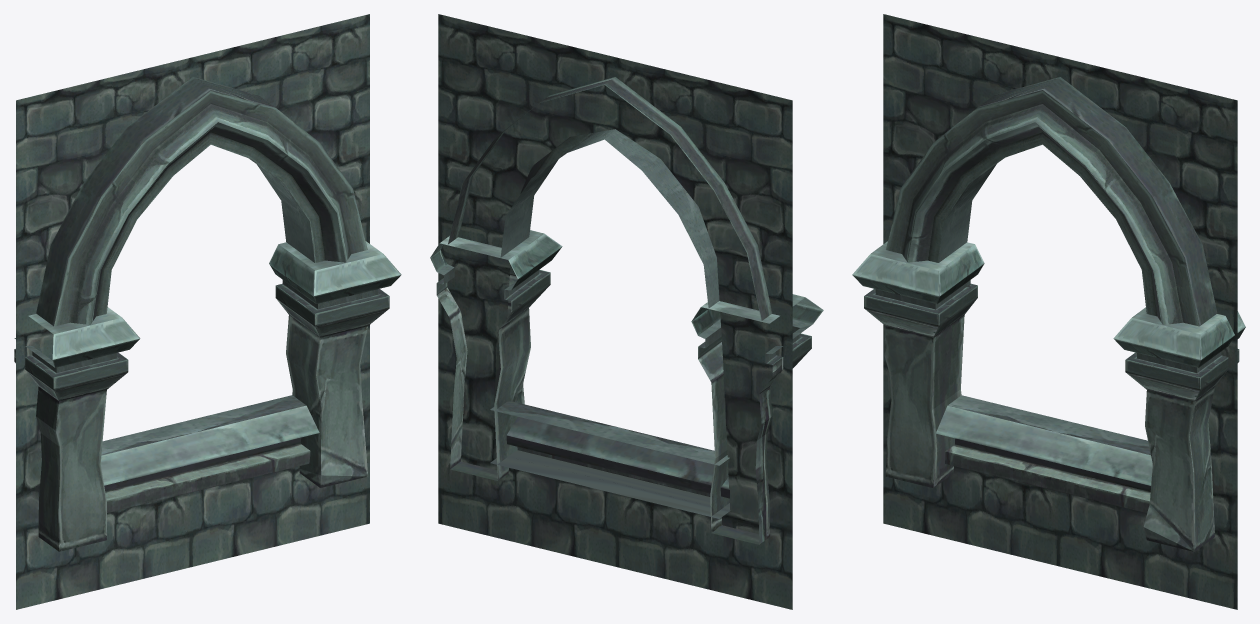
Rendered from crypt_wall_straight_07.fbx.
3 renders of one model, left to right at view 1: azimuth 30°, elevation 25°; view 2: azimuth 150°, elevation 25°; view 3: azimuth 330°, elevation 25°, orthographic.
Parts seen in each view (by area): view 1: crypt_wall_straight_07-0; view 2: crypt_wall_straight_07-0; view 3: crypt_wall_straight_07-0.
Boxes of the visible parts, x1=… form: crypt_wall_straight_07-0: x1=14, y1=14, x2=401, y2=609; crypt_wall_straight_07-0: x1=430, y1=14, x2=823, y2=609; crypt_wall_straight_07-0: x1=852, y1=14, x2=1245, y2=609.
Bounding box in the file's own units: 4 × 5.5 × 0.8788.
